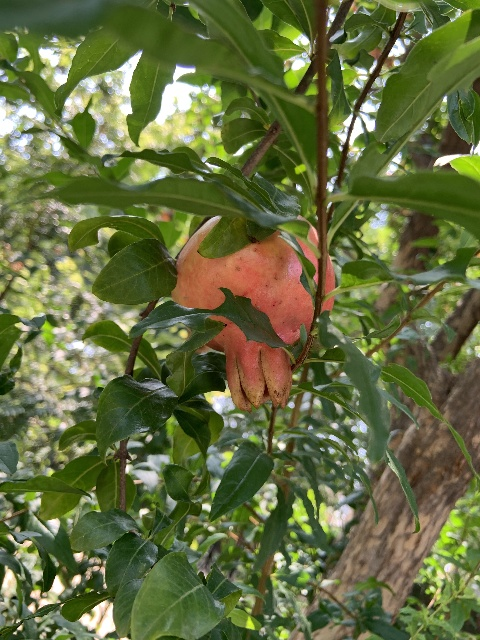ripe: (171, 215, 334, 412)
